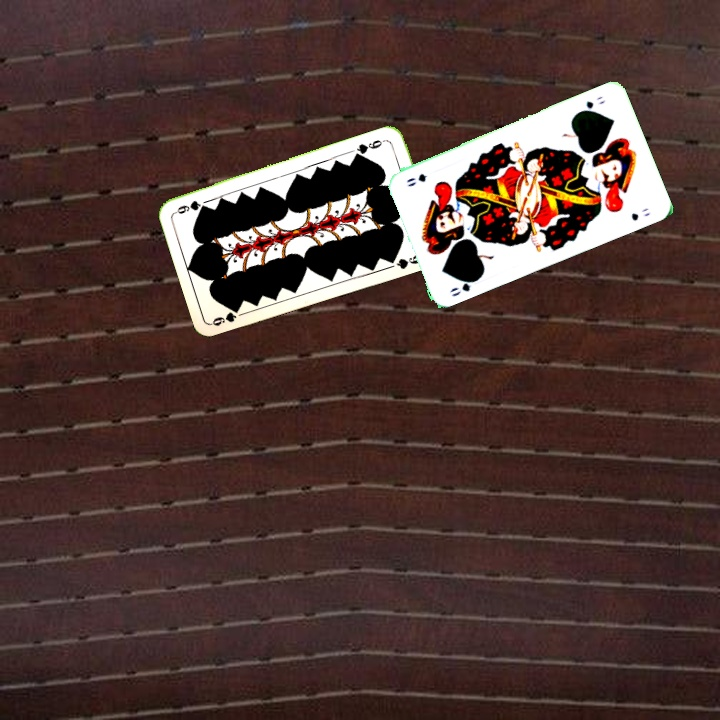G9: (208, 304, 248, 328), (352, 135, 390, 158)
GO: (445, 275, 481, 299), (574, 92, 608, 116)
